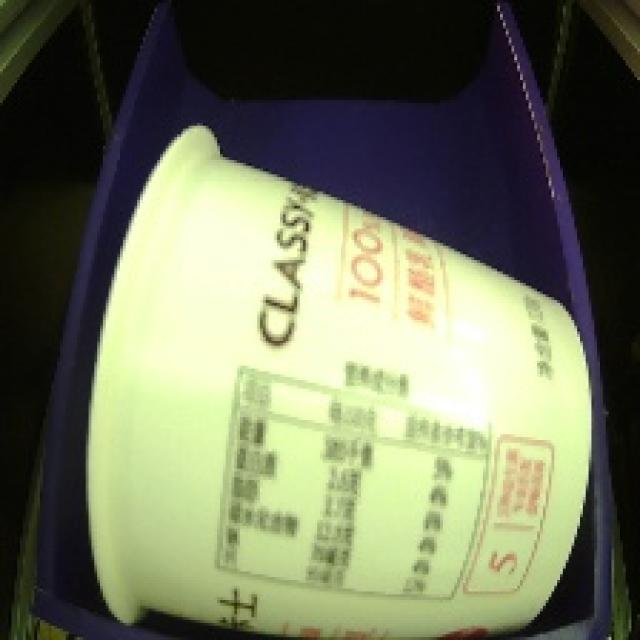cups: (67, 110, 601, 640)
